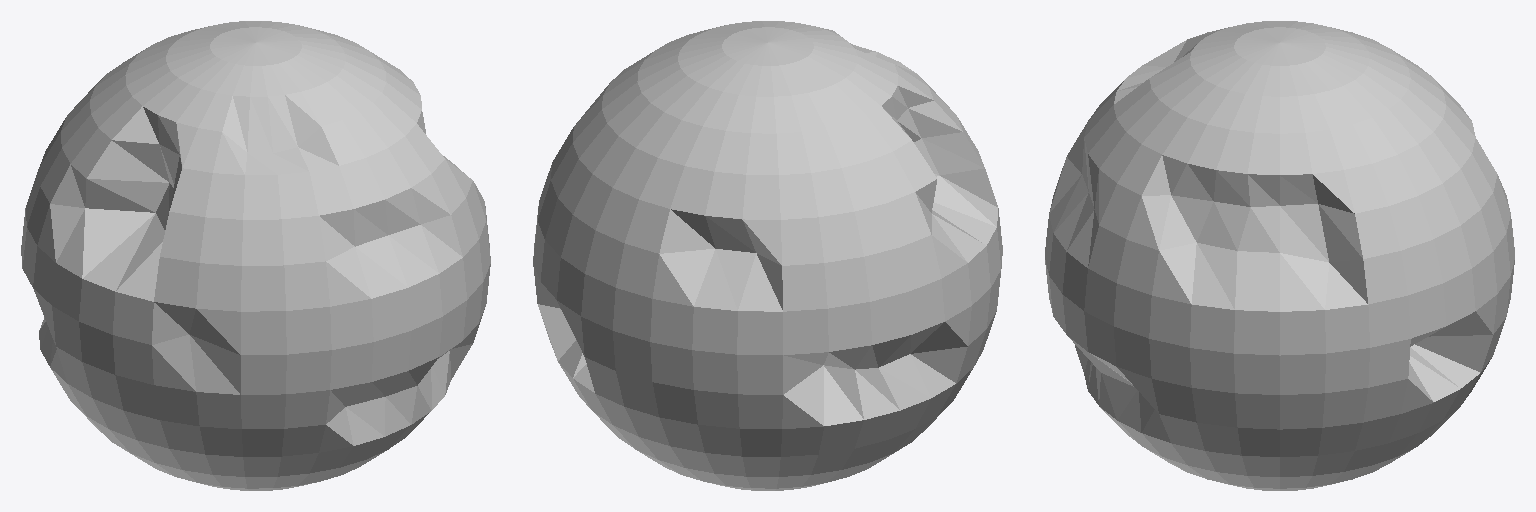
The model's file is planet2.obj.
The picture shows the model from 3 angles: view 1: azimuth 30°, elevation 25°; view 2: azimuth 150°, elevation 25°; view 3: azimuth 270°, elevation 25°; orthographic projection.
Visible parts, largest first — view 1: Sphere_Sphere.002; view 2: Sphere_Sphere.002; view 3: Sphere_Sphere.002.
Part boxes in pixels (x1,y1,x2,y2): Sphere_Sphere.002: (21,21,490,490); Sphere_Sphere.002: (533,21,1002,490); Sphere_Sphere.002: (1045,21,1514,490).
Size of the model in its own units: 2 by 2 by 2.